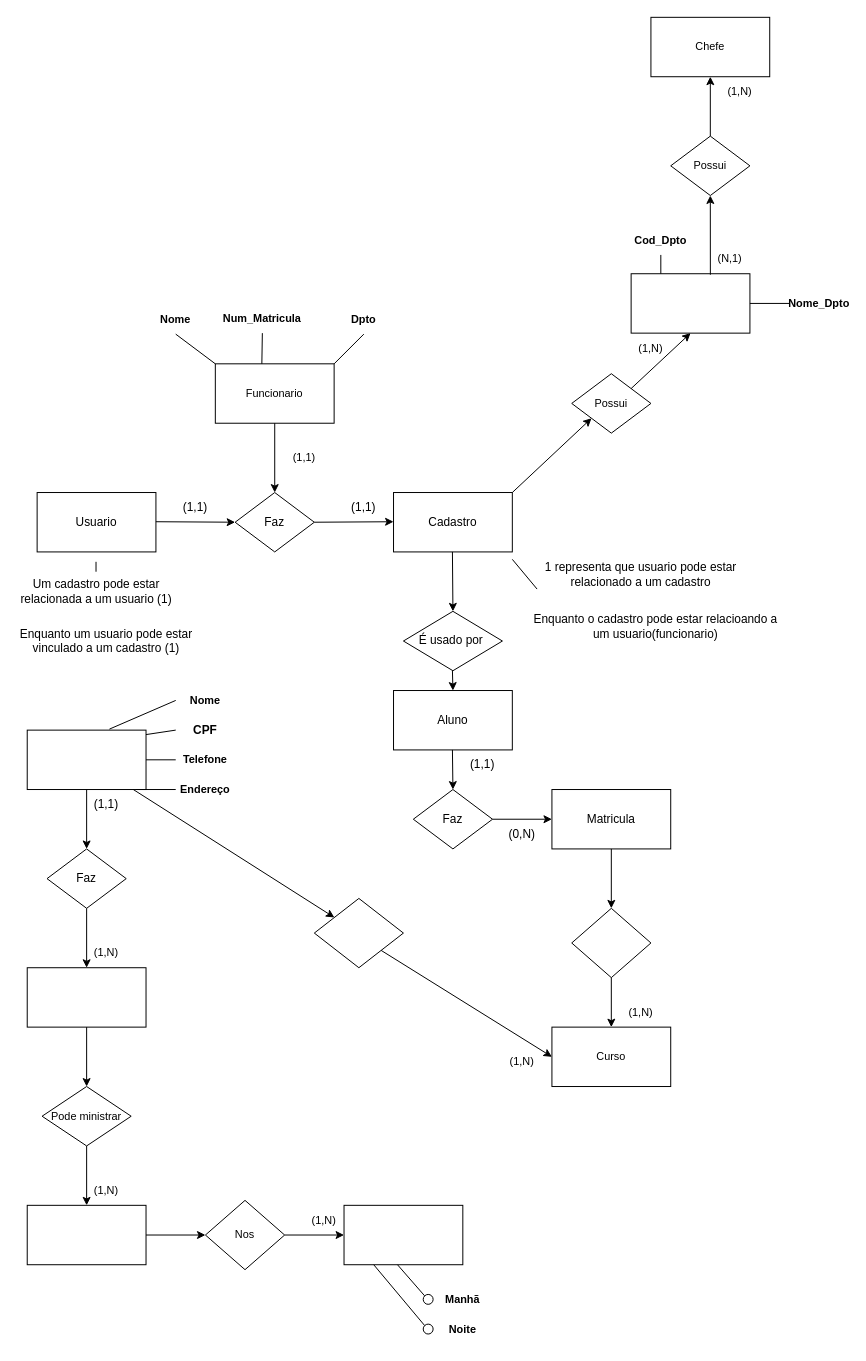
Some shapes in this 866 by 1361 pixel diagram are drawn without their labels. Here are the shapes that lost their labels. From the top down, the centre of each, then its label:
the point at 690,303: Departamento
the point at 86,759: Professor
the point at 358,932: Pode ensinar
the point at 611,942: É feita em
the point at 86,997: Cadastro curso
the point at 86,1234: Disciplina
the point at 403,1234: Horaios
